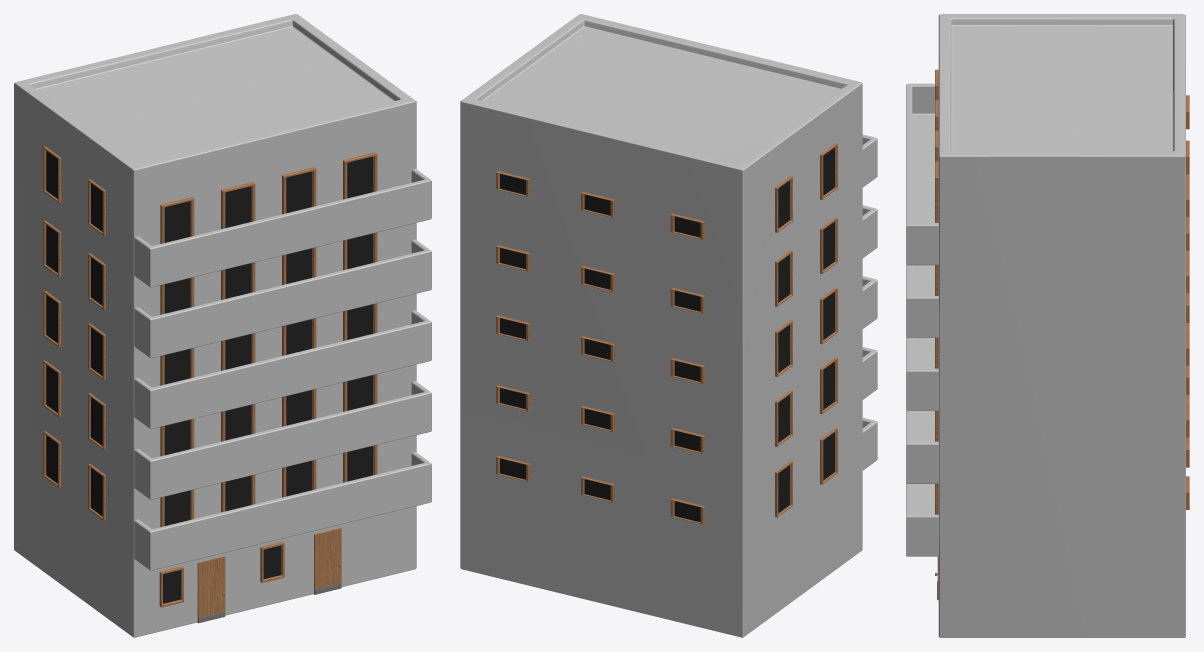
Rendered from SM_building_background_02.fbx.
The picture shows the model from 3 angles, left to right: view 1: azimuth 30°, elevation 25°; view 2: azimuth 150°, elevation 25°; view 3: azimuth 270°, elevation 25°; orthographic projection. The views are drawn at different scales.
Visible parts, largest first — view 1: building_background04; view 2: building_background04; view 3: building_background04.
Boxes of the visible parts, x1=… form: building_background04: x1=14, y1=14, x2=431, y2=637; building_background04: x1=460, y1=14, x2=877, y2=637; building_background04: x1=906, y1=14, x2=1189, y2=637.
Size of the model in its own units: 422 by 661 by 352.
